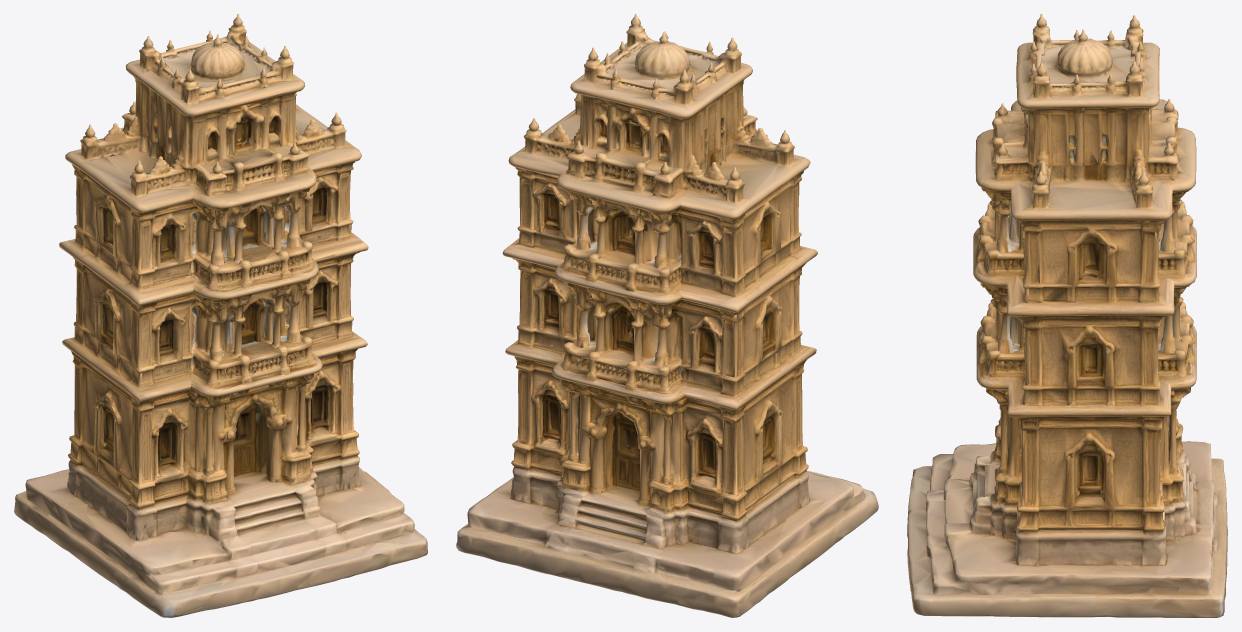
The model's file is Tiered_Jaipur_Palace.glb.
3 renders of one model, left to right at view 1: azimuth 30°, elevation 25°; view 2: azimuth 150°, elevation 25°; view 3: azimuth 270°, elevation 25°, orthographic. The views are drawn at different scales.
Parts seen in each view (by area): view 1: Tiered_Jaipur_Palace; view 2: Tiered_Jaipur_Palace; view 3: Tiered_Jaipur_Palace.
Boxes of the visible parts, x1,y1,x2,y2 form: Tiered_Jaipur_Palace: (14,14,427,617); Tiered_Jaipur_Palace: (456,14,878,617); Tiered_Jaipur_Palace: (907,14,1227,617).
Size of the model in its own units: 1.12 by 1.9 by 1.07.
1 material, 1 textured.
